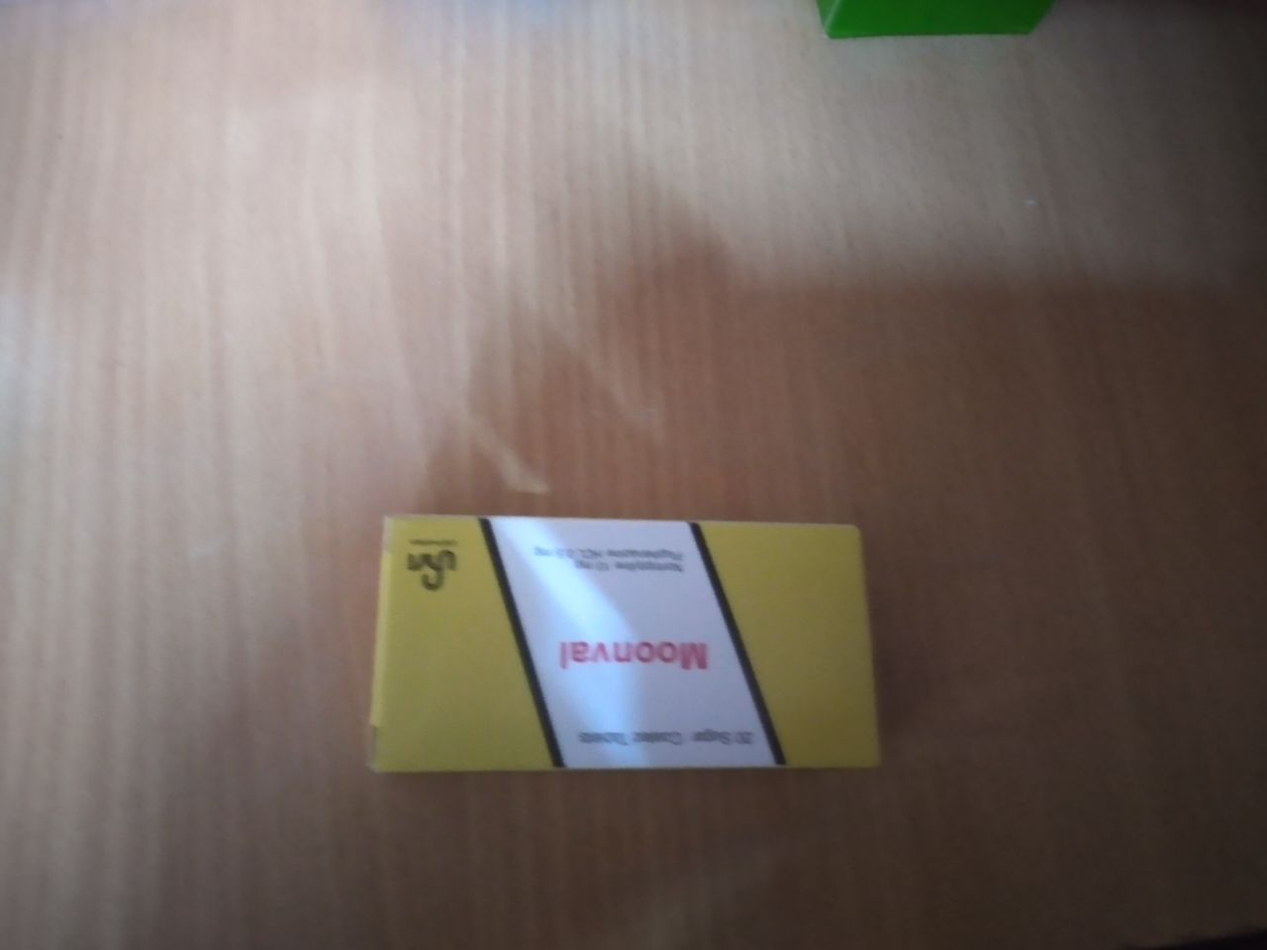Medicine: (364, 507, 893, 789)
